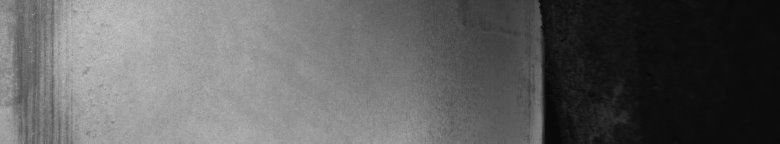ka: (4, 4, 89, 136)
